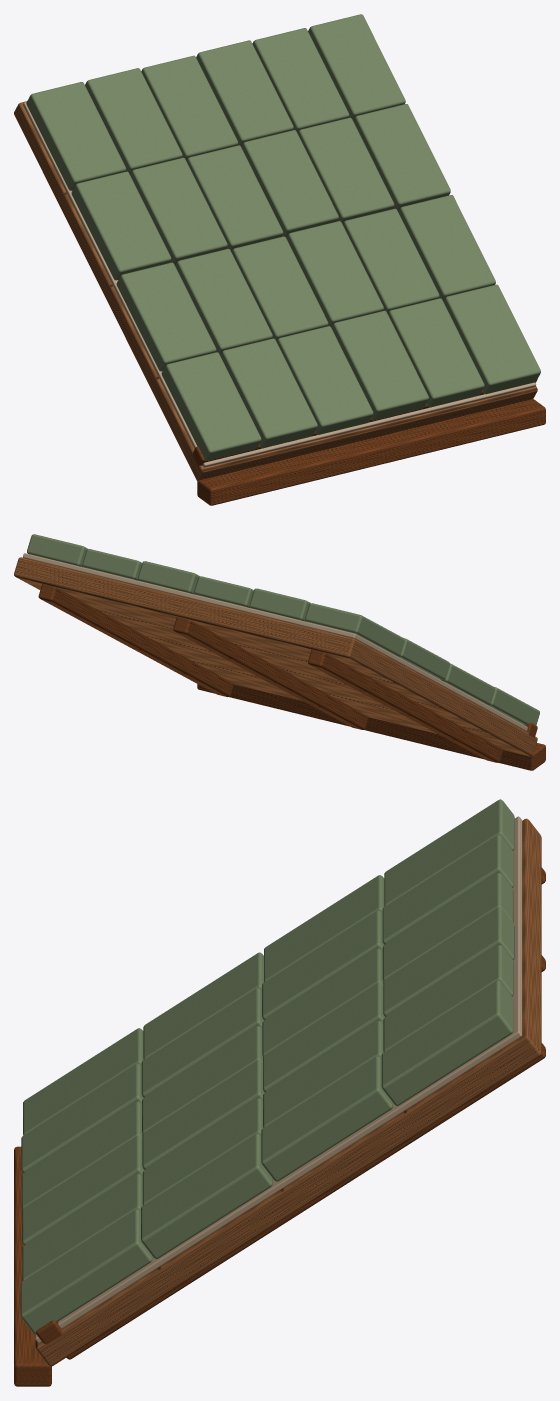
Rendered from viking-age-longhouse-and-longship-turf-roof-slope-205fd037__30168.glb.
3 views of the same model, one above another, from view 1: azimuth 30°, elevation 25°; view 2: azimuth 150°, elevation 25°; view 3: azimuth 270°, elevation 25° (orthographic). The views are drawn at different scales.
Parts seen in each view (by area): view 1: turf-roof-slope; view 2: turf-roof-slope; view 3: turf-roof-slope.
Part boxes in pixels (left/top/right/bottom): turf-roof-slope: left=14, top=14, right=545, bottom=505; turf-roof-slope: left=14, top=534, right=545, bottom=770; turf-roof-slope: left=14, top=799, right=545, bottom=1386.
Size of the model in its own units: 3 by 2.38 by 3.08.
4 materials, 3 textured.
